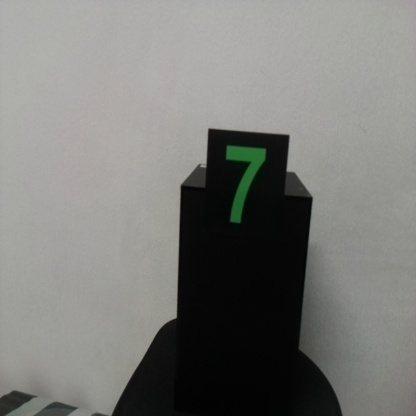id_7: (207, 130, 288, 266)
